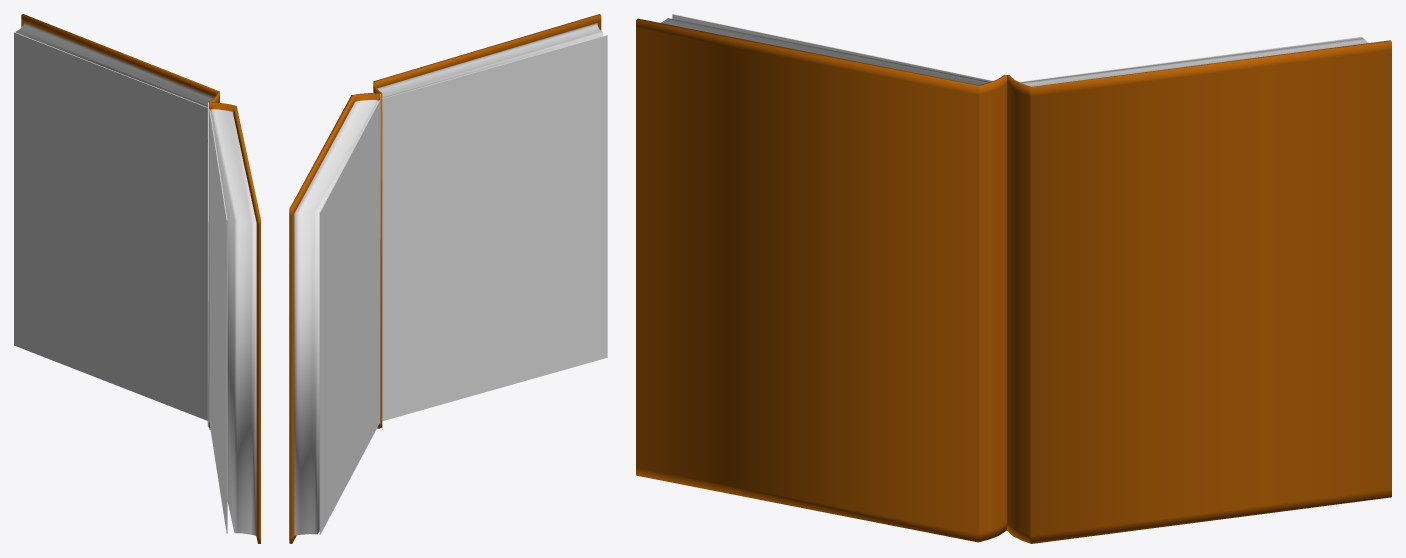
File: Book_w_mesh.fbx
3 renders of one model, left to right at view 1: azimuth 30°, elevation 25°; view 2: azimuth 150°, elevation 25°; view 3: azimuth 270°, elevation 25°, orthographic. The views are drawn at different scales.
Visible parts, largest first — view 1: BookPage2.001, BookPage4.001, BookPage3.001, BookPage1.001; view 2: BookPage3.001, BookPage2.001, BookPage1.001, BookPage4.001; view 3: BookPage1.001, BookPage4.001, BookPage3.001.
Part boxes in pixels (x1=…): BookPage2.001: x1=14, y1=32, x2=207, y2=420; BookPage4.001: x1=209, y1=102, x2=260, y2=543; BookPage3.001: x1=209, y1=109, x2=227, y2=533; BookPage1.001: x1=15, y1=14, x2=219, y2=427; BookPage3.001: x1=382, y1=35, x2=607, y2=421; BookPage2.001: x1=319, y1=100, x2=379, y2=534; BookPage1.001: x1=289, y1=93, x2=380, y2=543; BookPage4.001: x1=373, y1=14, x2=603, y2=427; BookPage1.001: x1=1007, y1=38, x2=1391, y2=543; BookPage4.001: x1=636, y1=18, x2=1006, y2=542; BookPage3.001: x1=672, y1=14, x2=993, y2=81.
Bounding box in the file's own units: 78.03 × 201 × 301.
